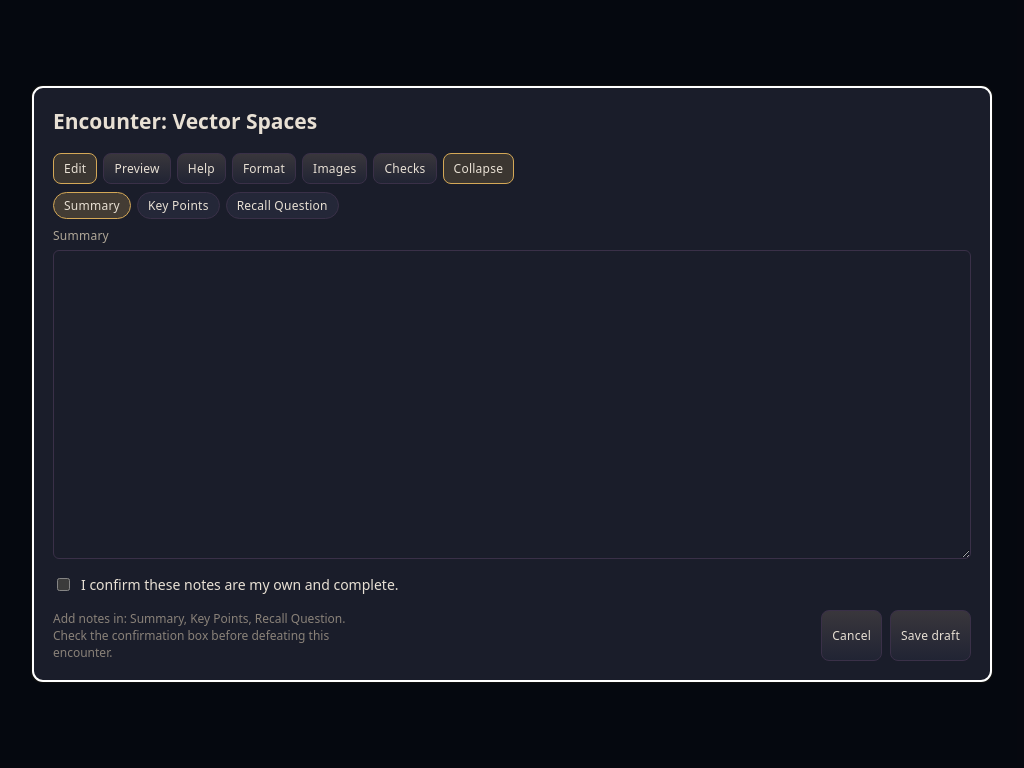
NoteEditorModal › opens expanded by default and can be collapsed back down
Click the button "Collapse" at [478, 168], box [443, 152, 514, 184]
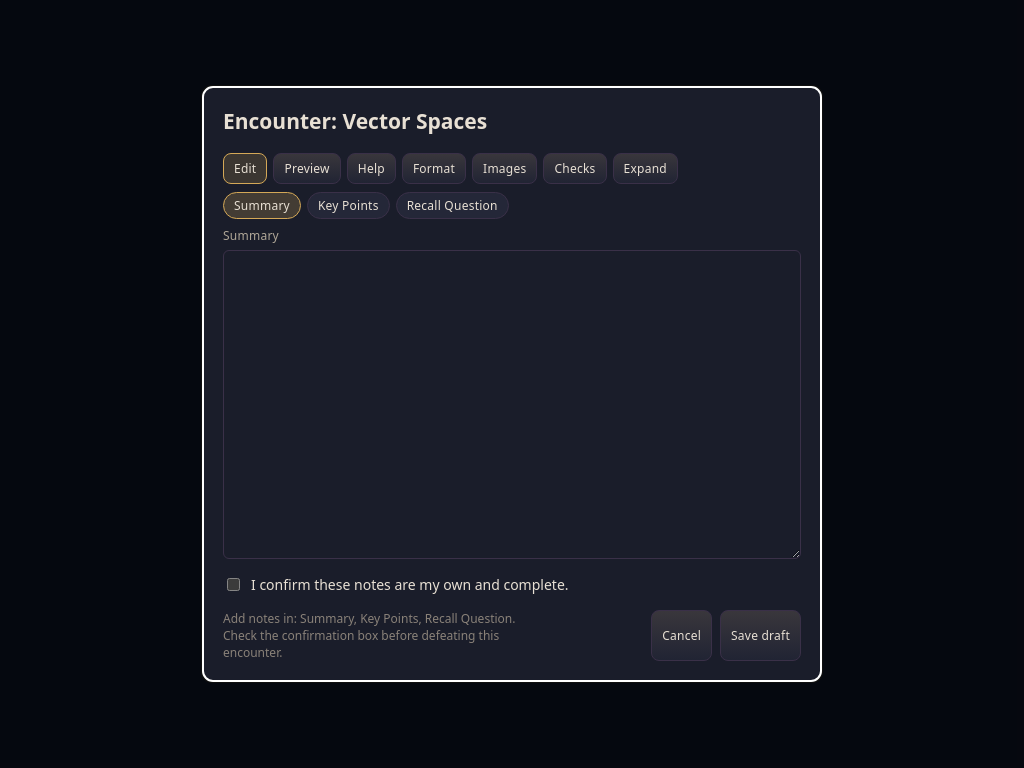
Check: the button "Expand" is shown, box [613, 152, 678, 184]
